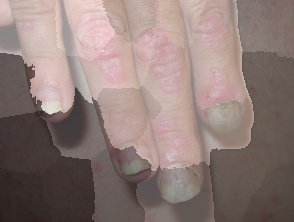Nail_psoriasis: (154, 128, 214, 212), (196, 80, 252, 140), (110, 135, 158, 183), (35, 85, 64, 119)
